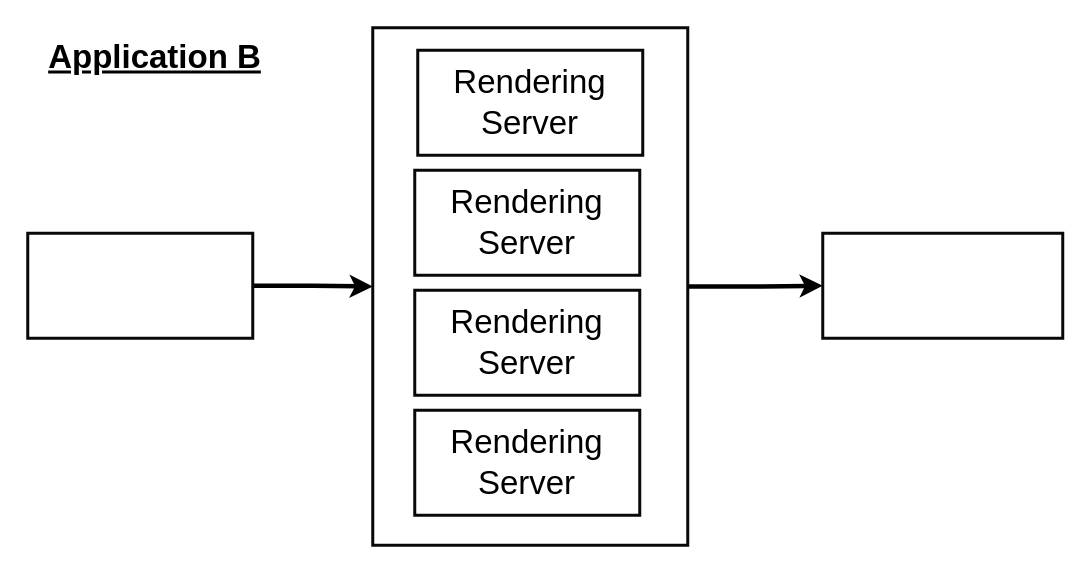
Some shapes in this 1089 by 572 pixel diagram are drawn without their labels. Here are the shapes that lost their labels. From the top down, the centre of each, then its label:
pixel 140 285: API Server
pixel 942 285: Users Browser
